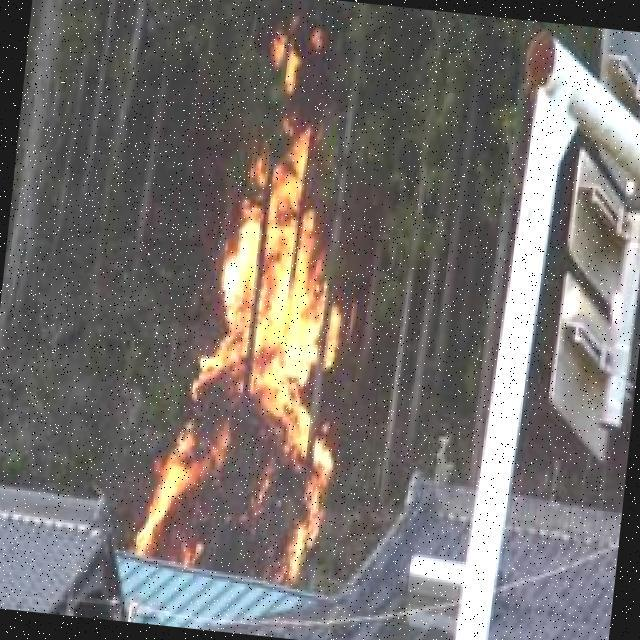Fire: (127, 119, 376, 587)
